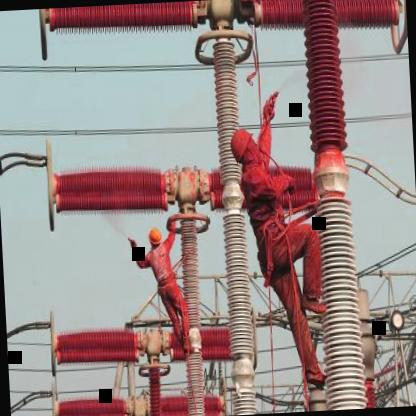helmet: (230, 123, 262, 169), (146, 224, 163, 249)
